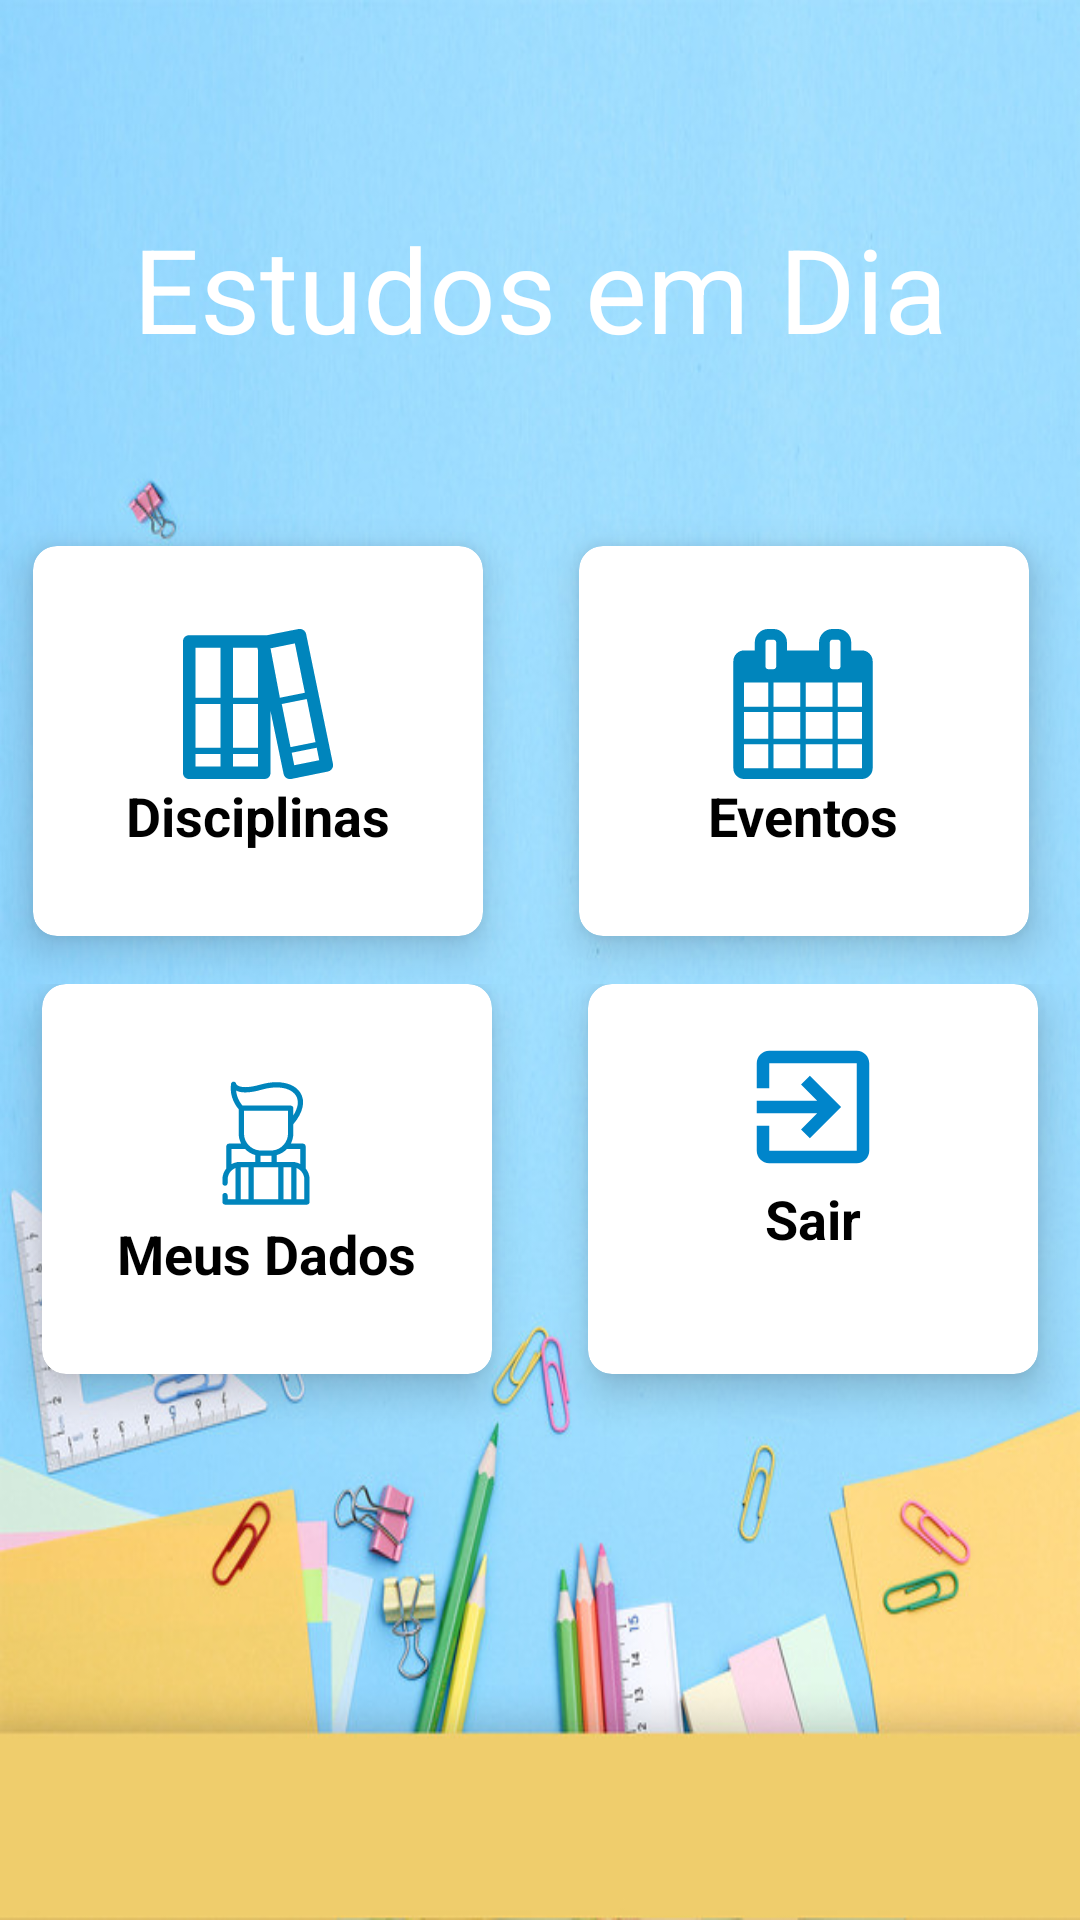

Screen size 1080 x 1920. Icon name, then its box in pixels as (x1, y1, x2, y2):
iconfinder book: (183, 629, 333, 779)
iconfinder calendar: (733, 629, 873, 779)
iconfinder estudante: (222, 1081, 310, 1205)
